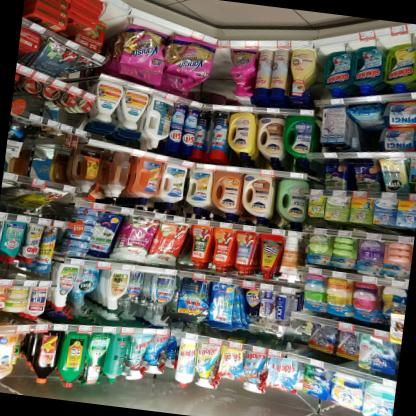empty_space: (211, 48, 234, 103), (99, 4, 129, 22)
